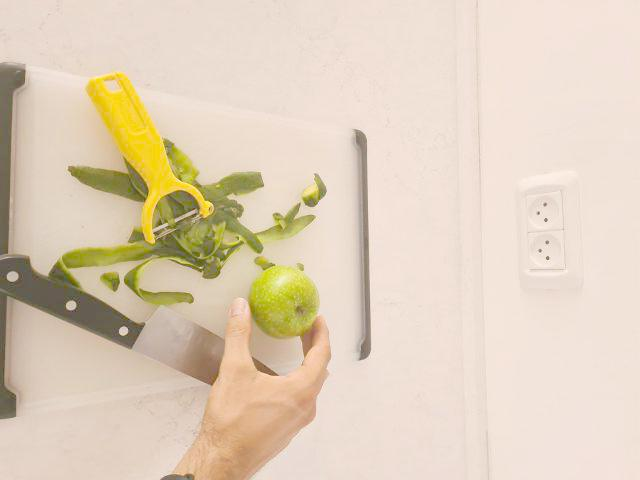apple: (246, 262, 321, 338)
